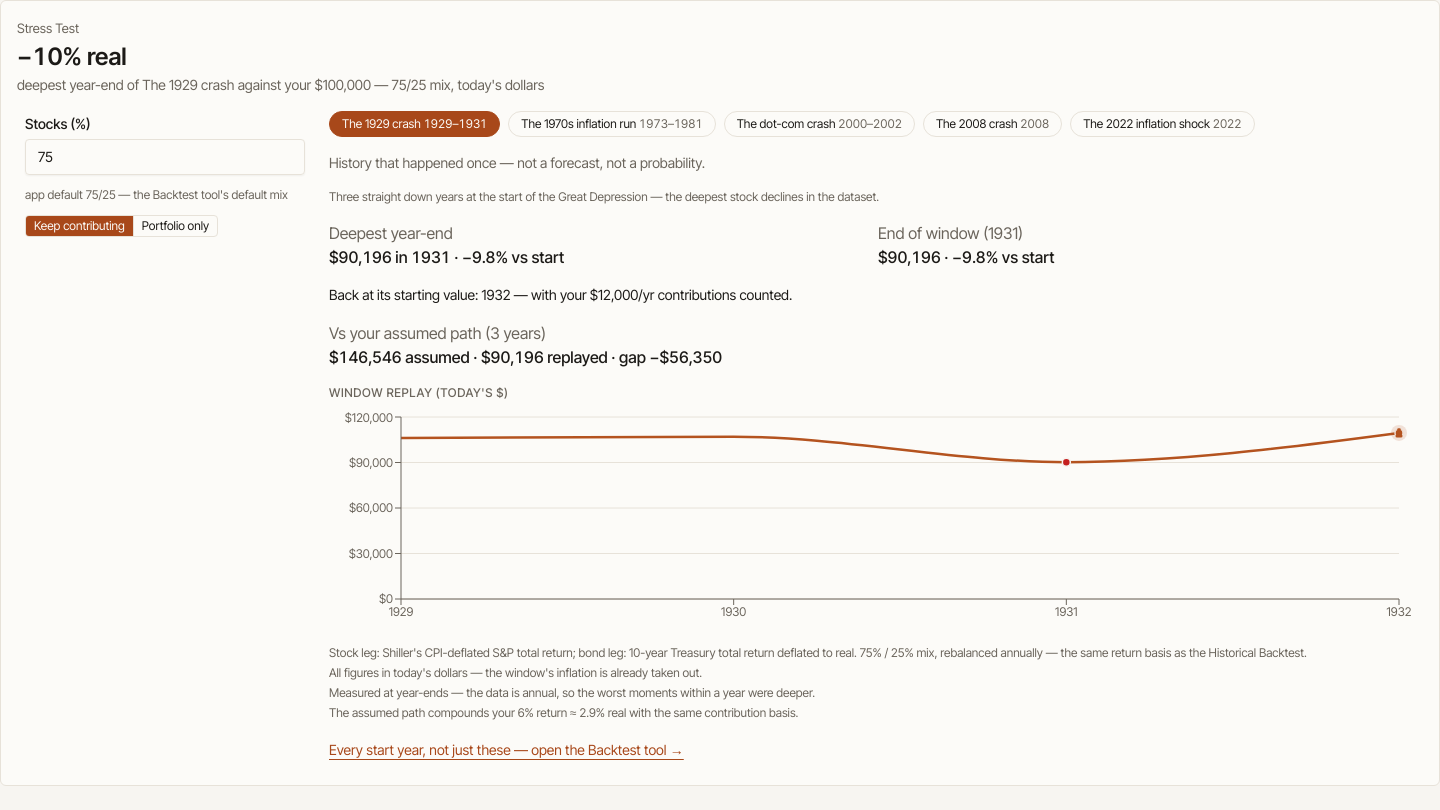
replay rendering — deterministic pins (portfolio 100k) › the 2022 window renders the data-ends line verbatim (CP-14 — zero tail, nothing extrapolated)
This screenshot has width=1440, height=810.
Step 1. Click the button "Portfolio only" → [175, 226], box [133,216,217,236]
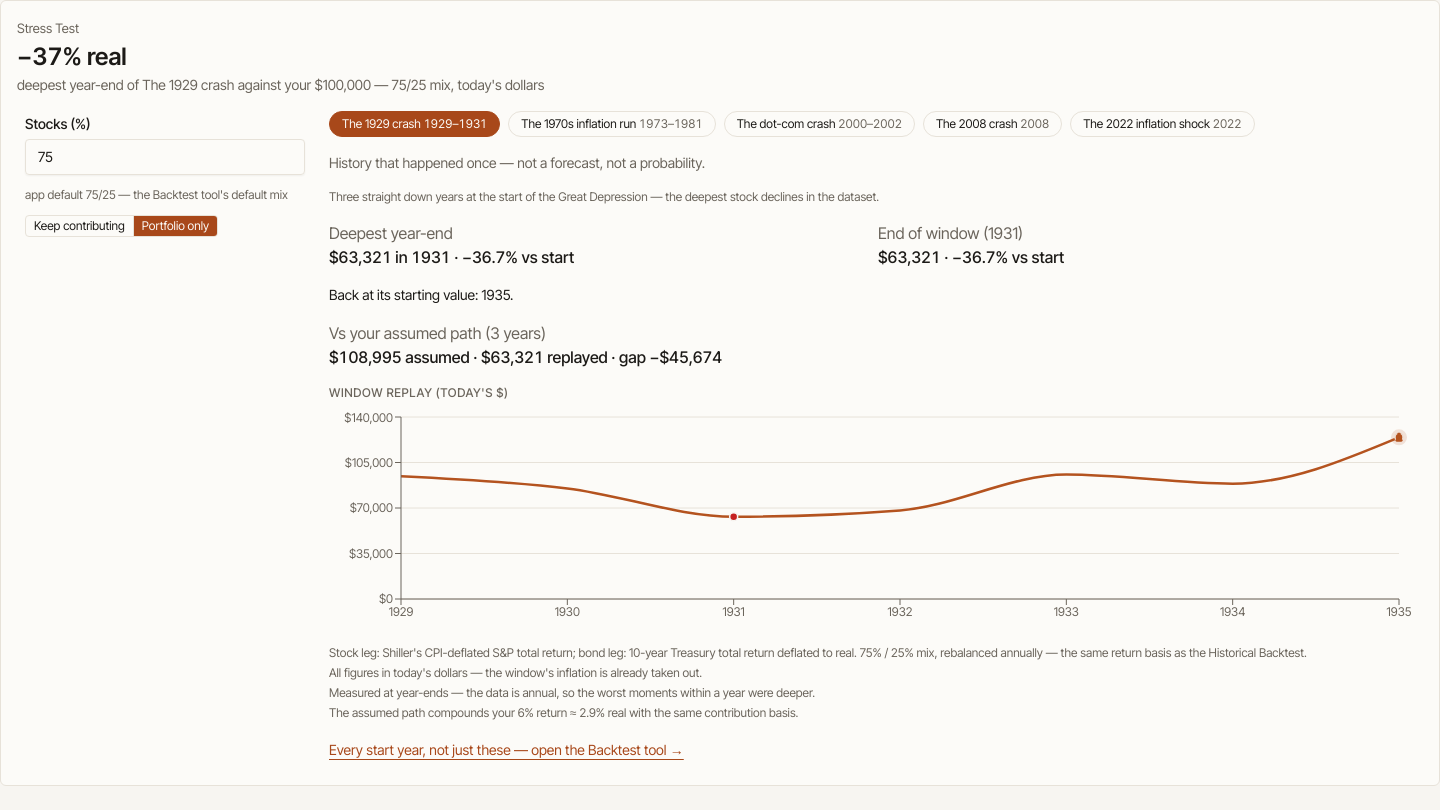
Step 2. Click the radio button "The 2022 inflation shock" → [1162, 124], box [1070,110,1254,136]
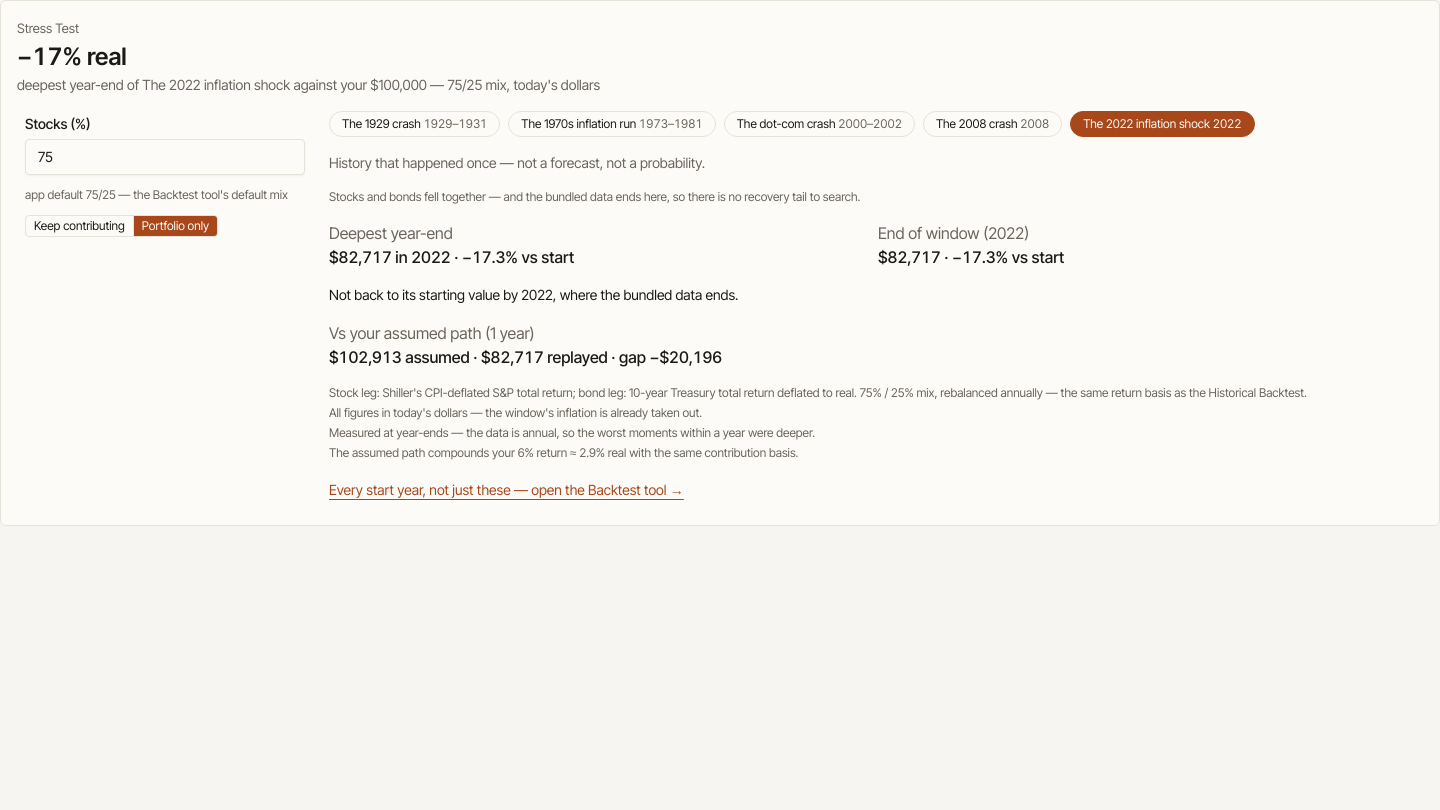
Expected: the text with test id "stress-recovery" reads "Not back to its starting value by 2022, where the bundled data ends.", [329,286,738,302]
